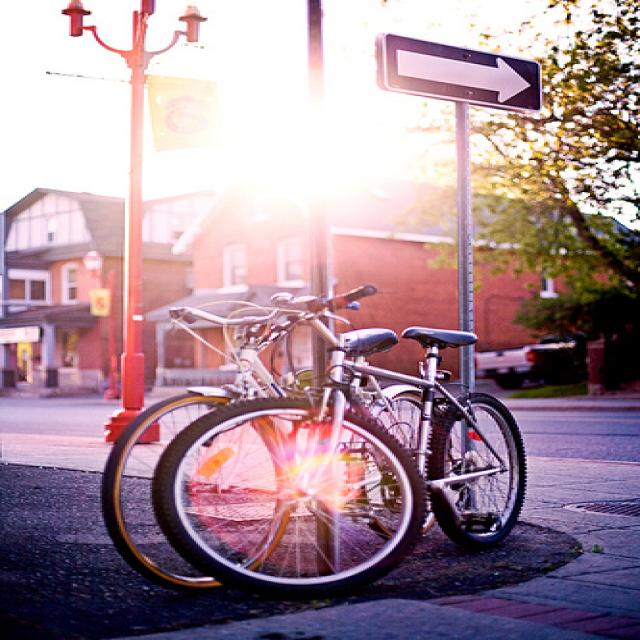Vehicle: (476, 335, 585, 391)
